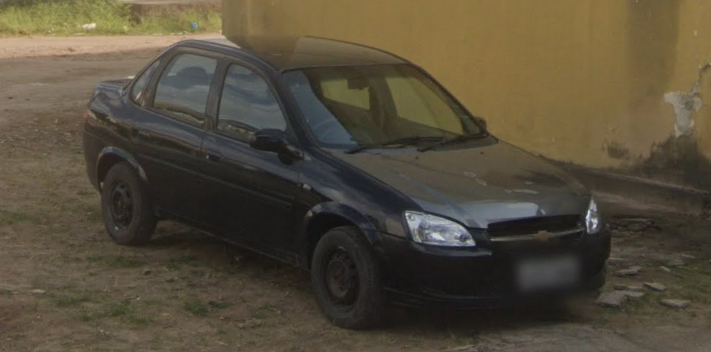car: (82, 34, 611, 337)
